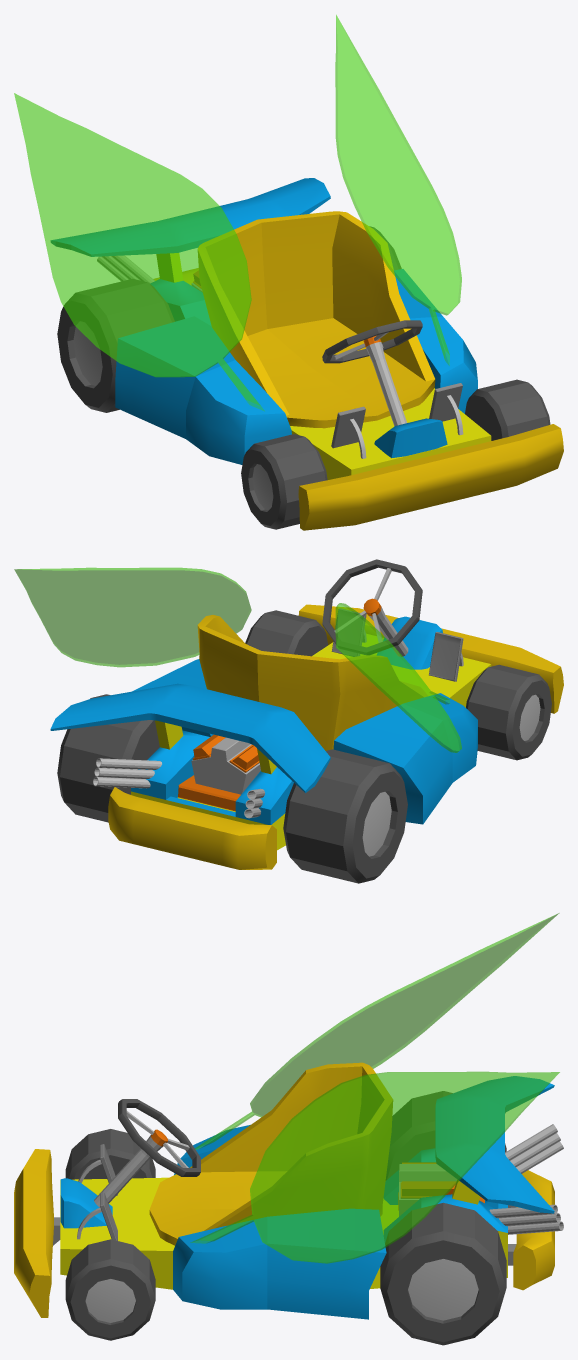
Rendered from KartTwoLeaves.fbx.
3 renders of one model, top to bottom at view 1: azimuth 30°, elevation 25°; view 2: azimuth 150°, elevation 25°; view 3: azimuth 270°, elevation 25°, orthographic.
Parts seen in each view (by area): view 1: frame, leaves2, seat, leaves1, wheel_driving_right, wheel_turning_right, wheel_turning_left, steeringWheel, steeringColumnBase, pCube1 (×2); view 2: frame, leaves1, seat, wheel_driving_right, leaves2, wheel_turning_right, wheel_driving_left, steeringWheel, engine, wheel_turning_left, pCube1 (×2), steeringColumnBase (+4 smaller); view 3: frame, leaves1, seat, wheel_driving_left, leaves2, wheel_turning_left, steeringWheel, wheel_driving_right, wheel_turning_right, engine, steeringColumnBase, pCylinder19 (+1 smaller).
Boxes of the visible parts, x1,y1,x2,y2 form: frame: [51, 178, 563, 530]; leaves2: [14, 93, 264, 411]; seat: [198, 211, 435, 428]; leaves1: [335, 15, 461, 365]; wheel_driving_right: [57, 279, 174, 412]; wheel_turning_right: [241, 434, 327, 529]; wheel_turning_left: [465, 379, 550, 440]; steeringWheel: [322, 320, 422, 426]; steeringColumnBase: [374, 418, 447, 458]; pCube1 (×2): [331, 383, 462, 448]; frame: [50, 604, 563, 869]; leaves1: [14, 567, 251, 667]; seat: [197, 615, 427, 750]; wheel_driving_right: [283, 749, 407, 883]; leaves2: [335, 603, 461, 752]; wheel_turning_right: [466, 664, 551, 760]; wheel_driving_left: [57, 694, 159, 822]; steeringWheel: [322, 559, 422, 656]; engine: [191, 734, 260, 794]; wheel_turning_left: [245, 610, 327, 656]; pCube1 (×2): [331, 608, 463, 681]; steeringColumnBase: [377, 616, 442, 669]; frame: [14, 1076, 554, 1319]; leaves1: [190, 1071, 559, 1263]; seat: [149, 1062, 392, 1245]; wheel_driving_left: [380, 1202, 506, 1345]; leaves2: [195, 913, 559, 1149]; wheel_turning_left: [65, 1239, 155, 1340]; steeringWheel: [94, 1099, 200, 1207]; wheel_driving_right: [386, 1091, 506, 1179]; wheel_turning_right: [65, 1129, 155, 1179]; engine: [399, 1162, 456, 1215]; steeringColumnBase: [60, 1178, 112, 1228]; pCylinder19: [505, 1124, 557, 1160].
Bounding box in the file's own units: 9.95 × 6.94 × 12.2.
